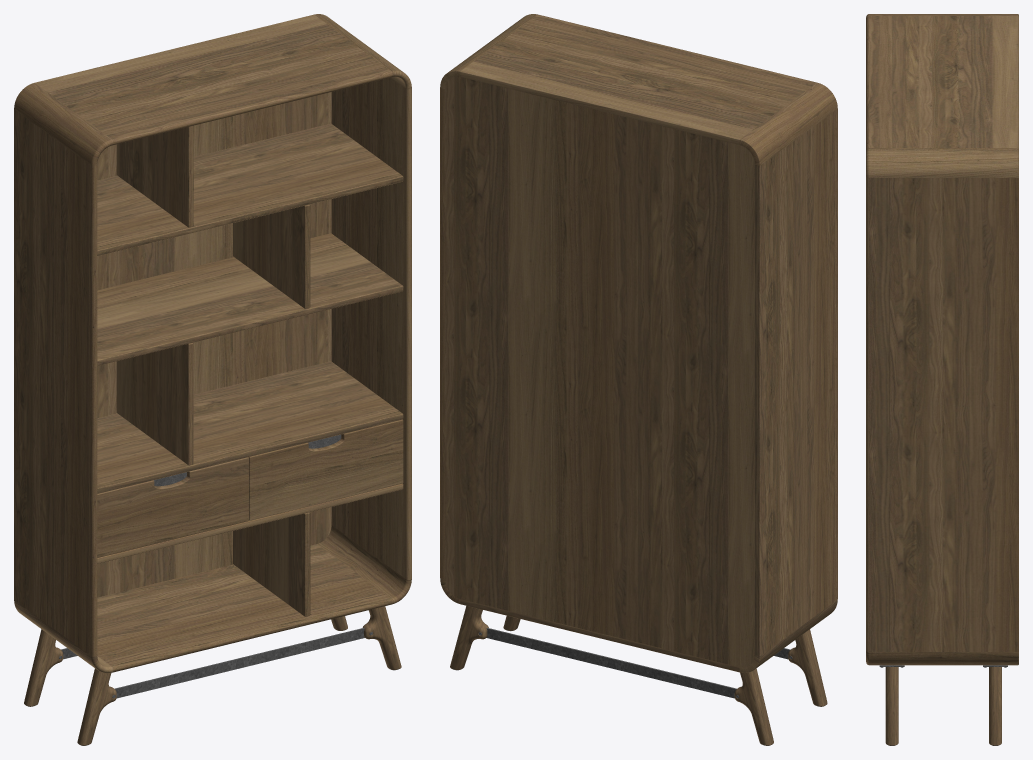
Rendered from Shelf_Vertical.glb.
The picture shows the model from 3 angles, left to right: view 1: azimuth 30°, elevation 25°; view 2: azimuth 150°, elevation 25°; view 3: azimuth 270°, elevation 25°; orthographic projection. The views are drawn at different scales.
Visible parts, largest first — view 1: Cylinder.004; view 2: Cylinder.004; view 3: Cylinder.004.
Boxes of the visible parts, x1,y1,x2,y2 form: Cylinder.004: (14,14,411,745); Cylinder.004: (440,14,837,745); Cylinder.004: (866,14,1018,745).
Bounding box in the file's own units: 1.1 × 2 × 0.47.
Materials: 2 (2 with a texture image).
